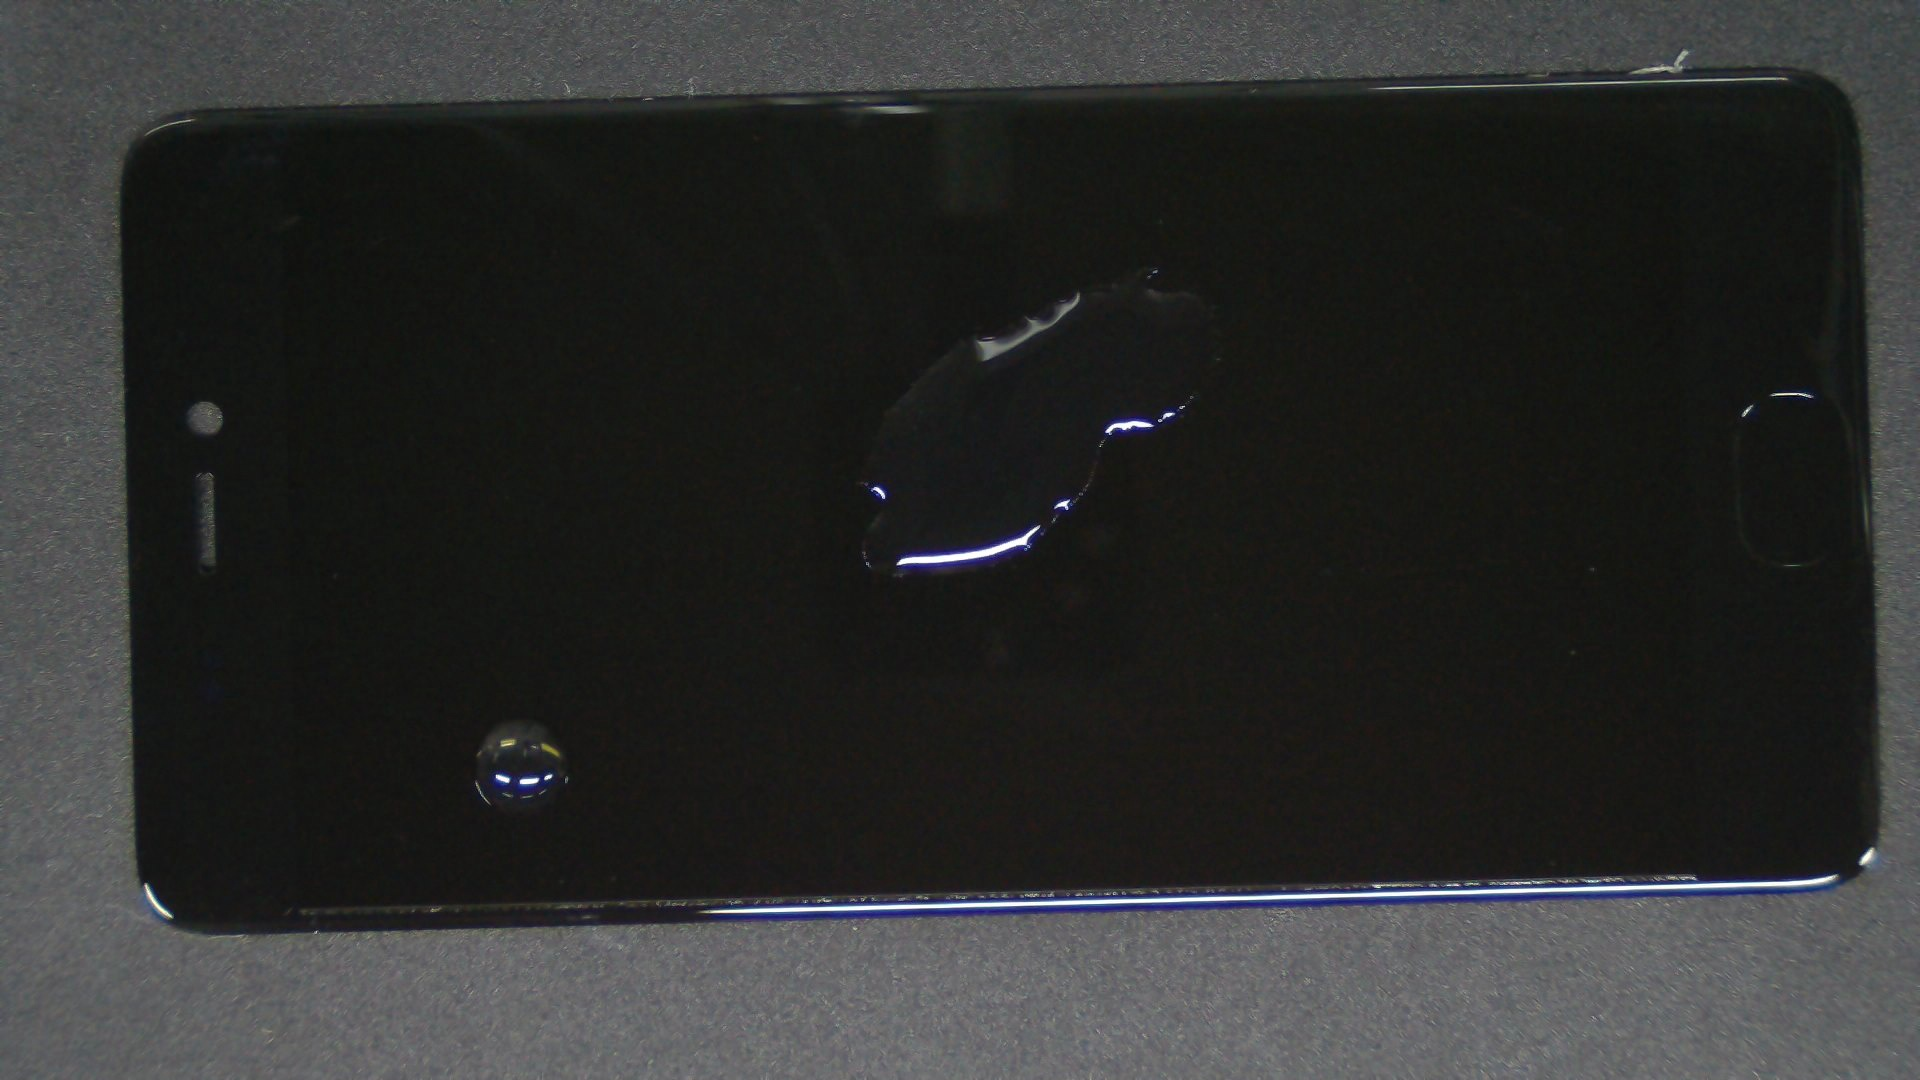oil: (257, 360, 769, 1080), (568, 132, 1702, 398)
